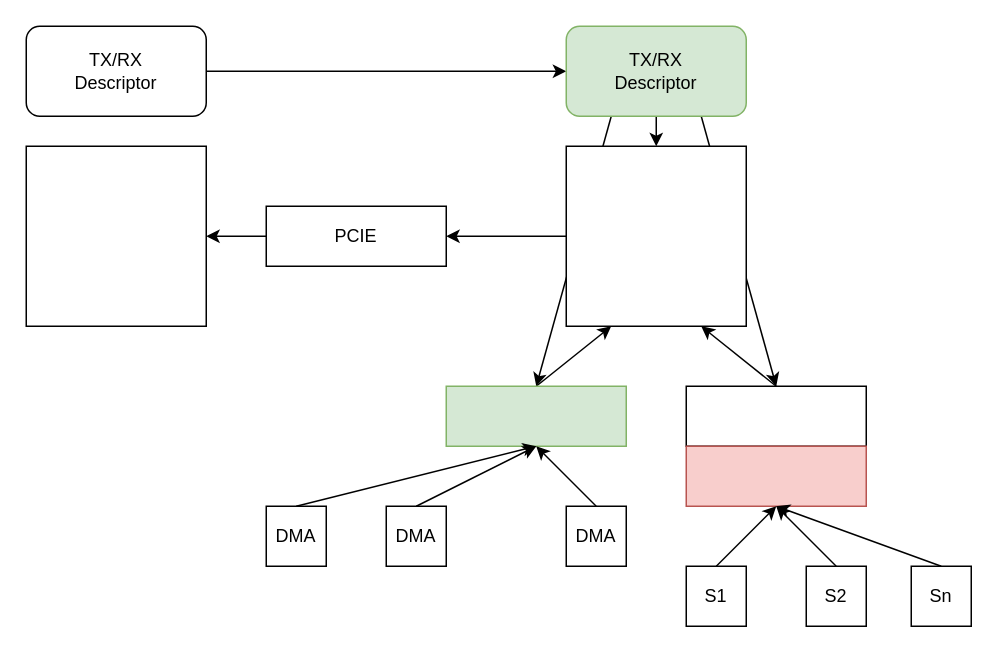
The diagram is 998 pixels wide and 653 high, and some of its shapes have lost their labels. The shapes that lost their labels are listed below. From the top down, each one's centre as x and y in pixels, then its label:
At [115,235]: "Driver".
At [655,235]: "QDMA".
At [535,415]: "AXI-Memory".
At [775,415]: "AXI-Stream".
At [775,475]: "Stream Arbitrator".
